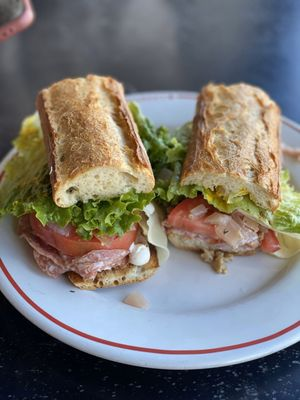soup: (0, 74, 161, 290), (159, 81, 298, 275)
